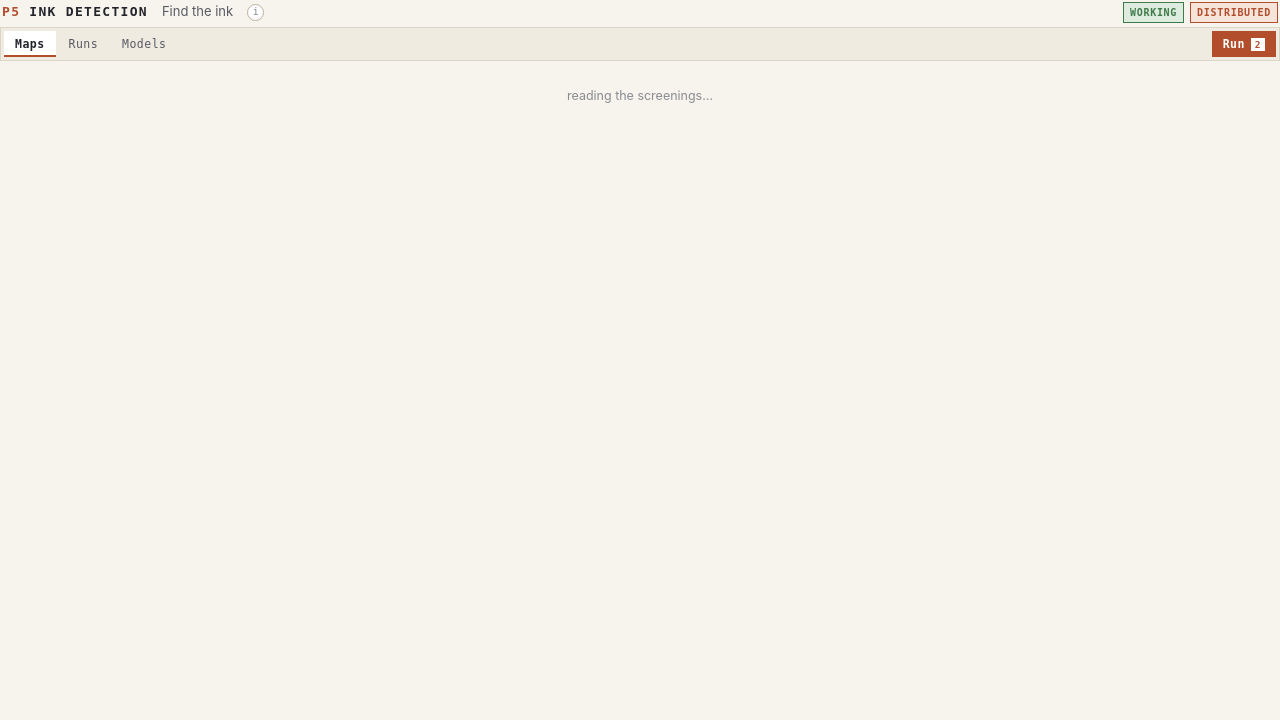
says nothing about a job that has not started
Click the button "Run2".
click(1244, 44)  # box top-left (1212, 31), bottom-right (1276, 57)
(page scrolled)
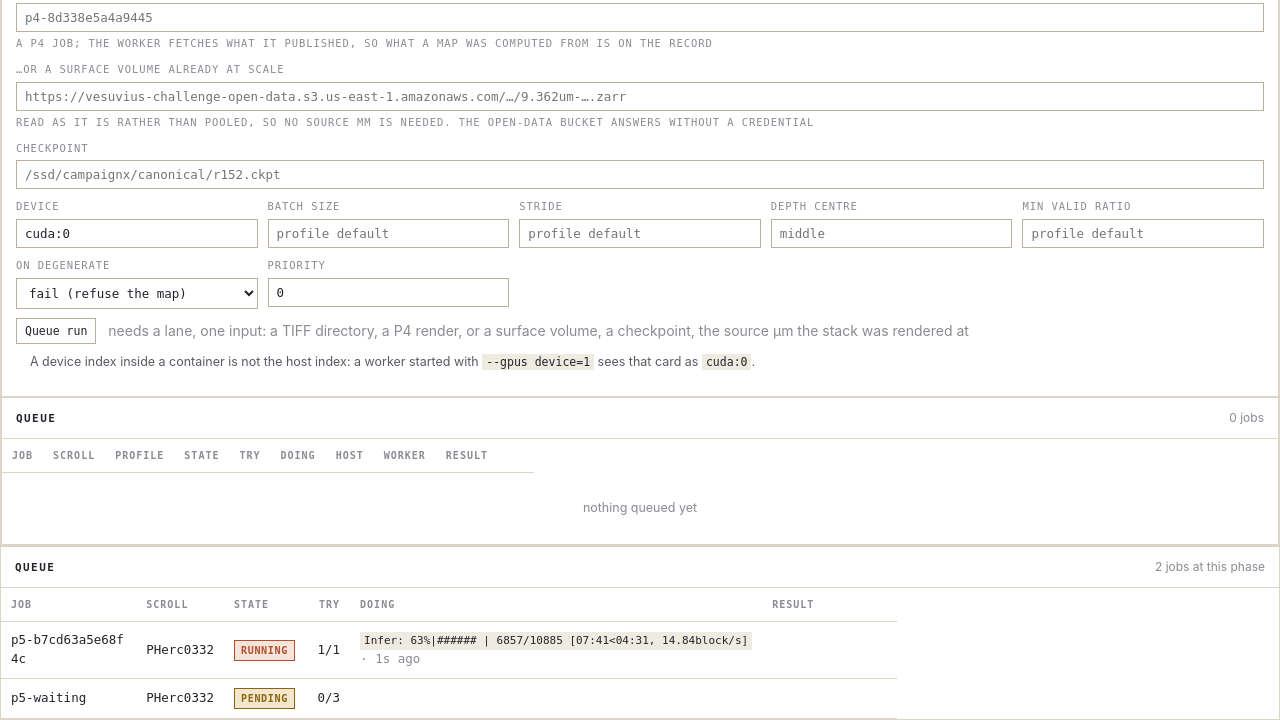
Expected: the text "p5-waiting" does not show "block/s"
Now the text "Infer: 63%|###### | 6857/10885 [07:41<04:31, 14.84block/s]" is shown, box top-left (360, 632), bottom-right (752, 650)
